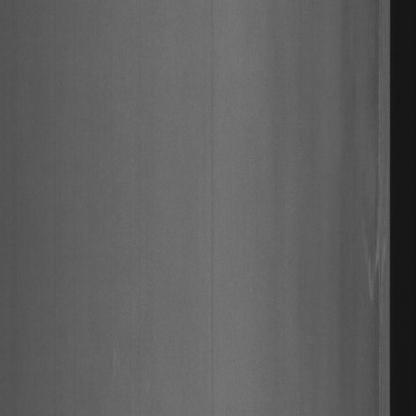silk_spot: (354, 21, 390, 324)
